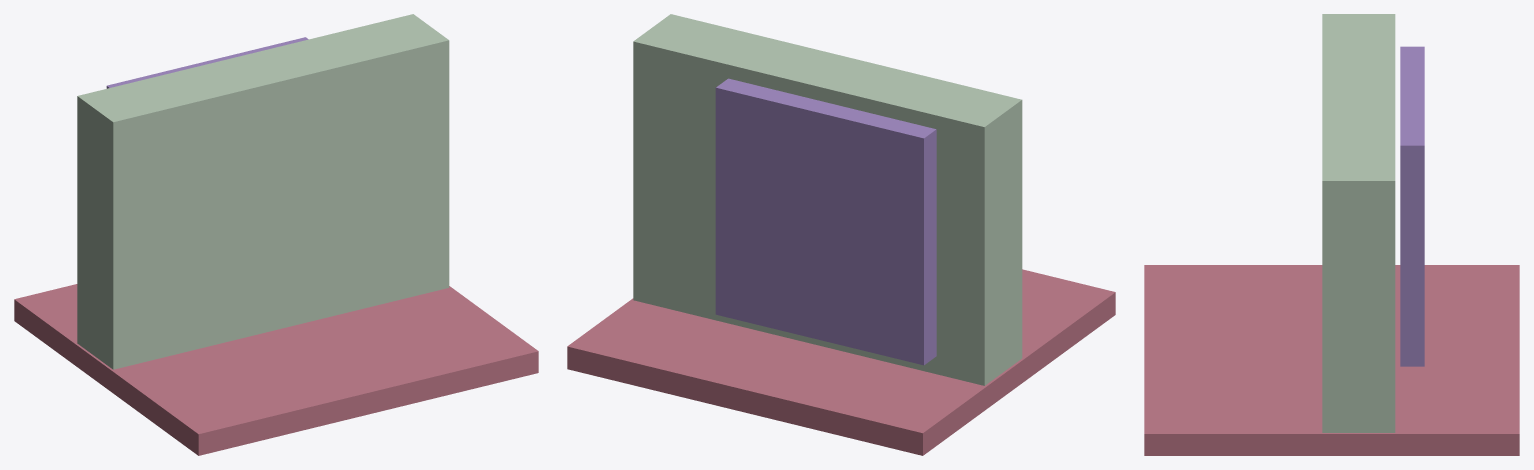
The model's file is 239547_pred.glb.
3 renders of one model, left to right at view 1: azimuth 30°, elevation 25°; view 2: azimuth 150°, elevation 25°; view 3: azimuth 270°, elevation 25°, orthographic. The views are drawn at different scales.
Visible parts, largest first — view 1: world; view 2: world; view 3: world.
Boxes of the visible parts, <box> form: world: <box>14,14,538,455</box>; world: <box>567,14,1115,455</box>; world: <box>1144,14,1519,455</box>.
Bounding box in the file's own units: 8.2 × 6.2 × 7.7.
